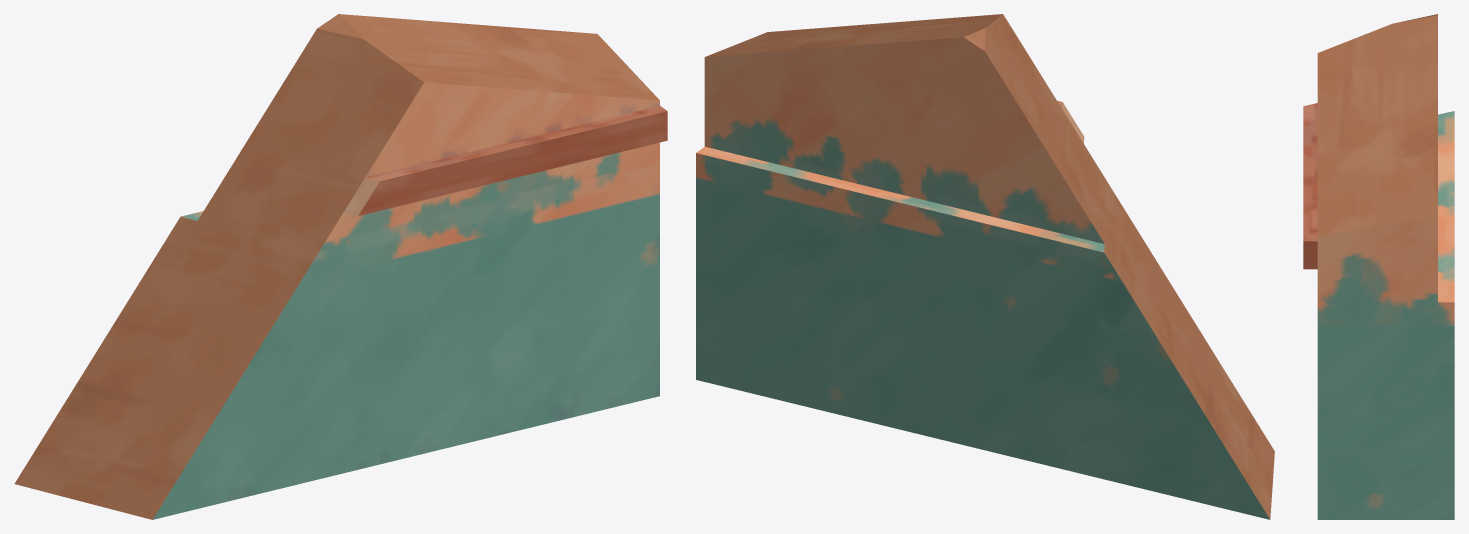
The model's file is wall2_plain_s07.fbx.
3 views of the same model, side by side, from view 1: azimuth 30°, elevation 25°; view 2: azimuth 150°, elevation 25°; view 3: azimuth 270°, elevation 25° (orthographic). The views are drawn at different scales.
Parts seen in each view (by area): view 1: wall2_plain_s07; view 2: wall2_plain_s07; view 3: wall2_plain_s07.
Boxes of the visible parts, box(x1,y1,x2,y2) form: wall2_plain_s07: box(14, 14, 667, 519); wall2_plain_s07: box(696, 14, 1274, 519); wall2_plain_s07: box(1303, 14, 1454, 519).
Bounding box in the file's own units: 5.3 × 3.52 × 1.26.
